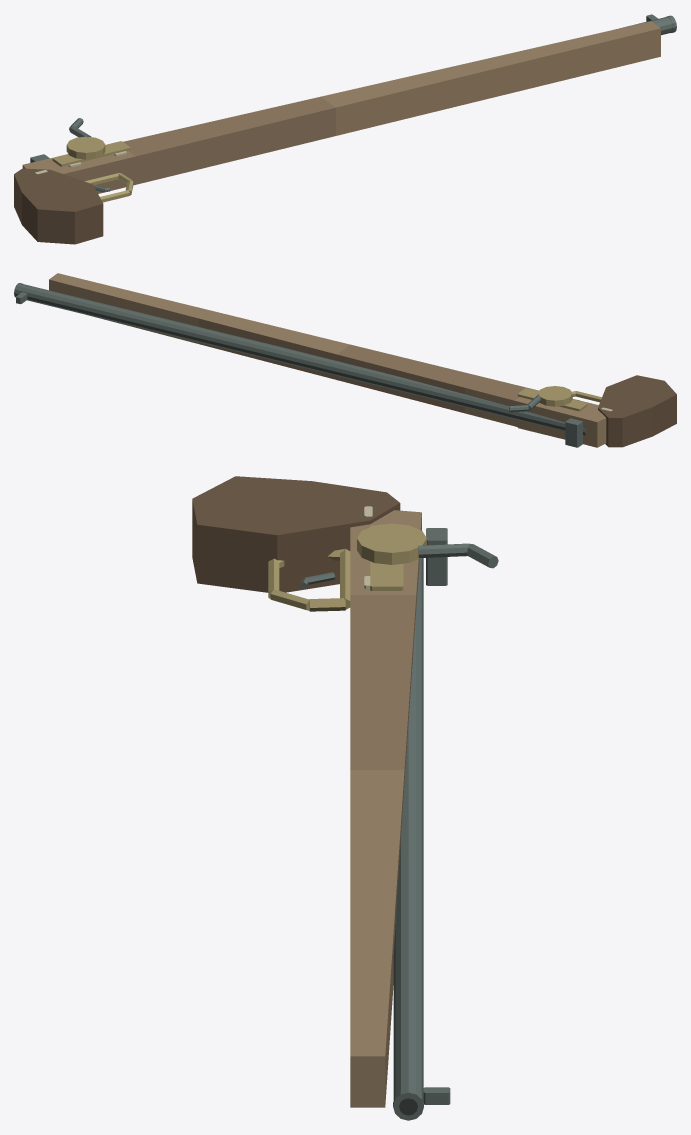
Rendered from weapon-wheellock.glb.
3 views of the same model, one above another, from view 1: azimuth 30°, elevation 25°; view 2: azimuth 150°, elevation 25°; view 3: azimuth 270°, elevation 25° (orthographic). The views are drawn at different scales.
Visible parts, largest first — view 1: weapon-wheellock/long-slender-wood-stock, weapon-wheellock/sculpted-curved-wood-butt, weapon-wheellock/circular-wheel-cover, weapon-wheellock/lock-plate-left; view 2: weapon-wheellock/long-slender-wood-stock, weapon-wheellock/long-early-barrel, weapon-wheellock/sculpted-curved-wood-butt, weapon-wheellock/circular-wheel-cover, weapon-wheellock/rear-sight, weapon-wheellock/lock-plate-left; view 3: weapon-wheellock/long-slender-wood-stock, weapon-wheellock/sculpted-curved-wood-butt, weapon-wheellock/long-early-barrel, weapon-wheellock/circular-wheel-cover, weapon-wheellock/rear-sight, weapon-wheellock/lock-plate-left.
Part boxes in pixels (<box>): weapon-wheellock/long-slender-wood-stock: <box>22,21,660,193</box>; weapon-wheellock/sculpted-curved-wood-butt: <box>14,168,103,244</box>; weapon-wheellock/circular-wheel-cover: <box>66,136,105,159</box>; weapon-wheellock/lock-plate-left: <box>52,141,130,166</box>; weapon-wheellock/long-slender-wood-stock: <box>49,273,606,447</box>; weapon-wheellock/long-early-barrel: <box>17,284,585,435</box>; weapon-wheellock/sculpted-curved-wood-butt: <box>598,375,676,447</box>; weapon-wheellock/circular-wheel-cover: <box>537,386,572,406</box>; weapon-wheellock/rear-sight: <box>565,418,582,447</box>; weapon-wheellock/lock-plate-left: <box>517,388,587,411</box>; weapon-wheellock/long-slender-wood-stock: <box>350,510,421,1107</box>; weapon-wheellock/sculpted-curved-wood-butt: <box>192,476,400,592</box>; weapon-wheellock/long-early-barrel: <box>393,558,423,1100</box>; weapon-wheellock/circular-wheel-cover: <box>357,523,426,564</box>; weapon-wheellock/rear-sight: <box>426,528,447,585</box>; weapon-wheellock/lock-plate-left: <box>370,525,403,590</box>.
Size of the model in its own units: 0.8555 by 0.0555 by 0.1842.
Materials: 6 (6 with a texture image).
